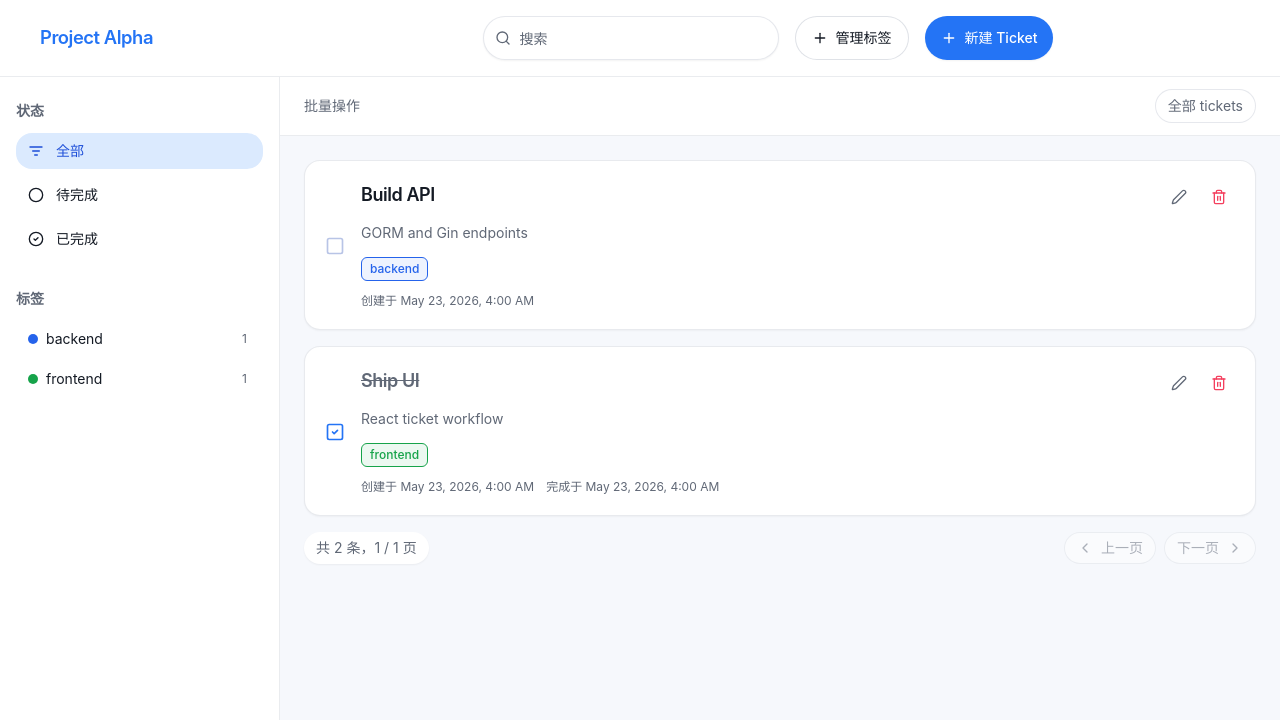
Test: App › 删除 ticket 前需要确认
The width and height of the screenshot is (1280, 720).
Expected: the button "Build API" is shown, [361,181,435,209]
Click the button named "删除 Build API".
click(1219, 197)  # box [1203,181,1235,213]
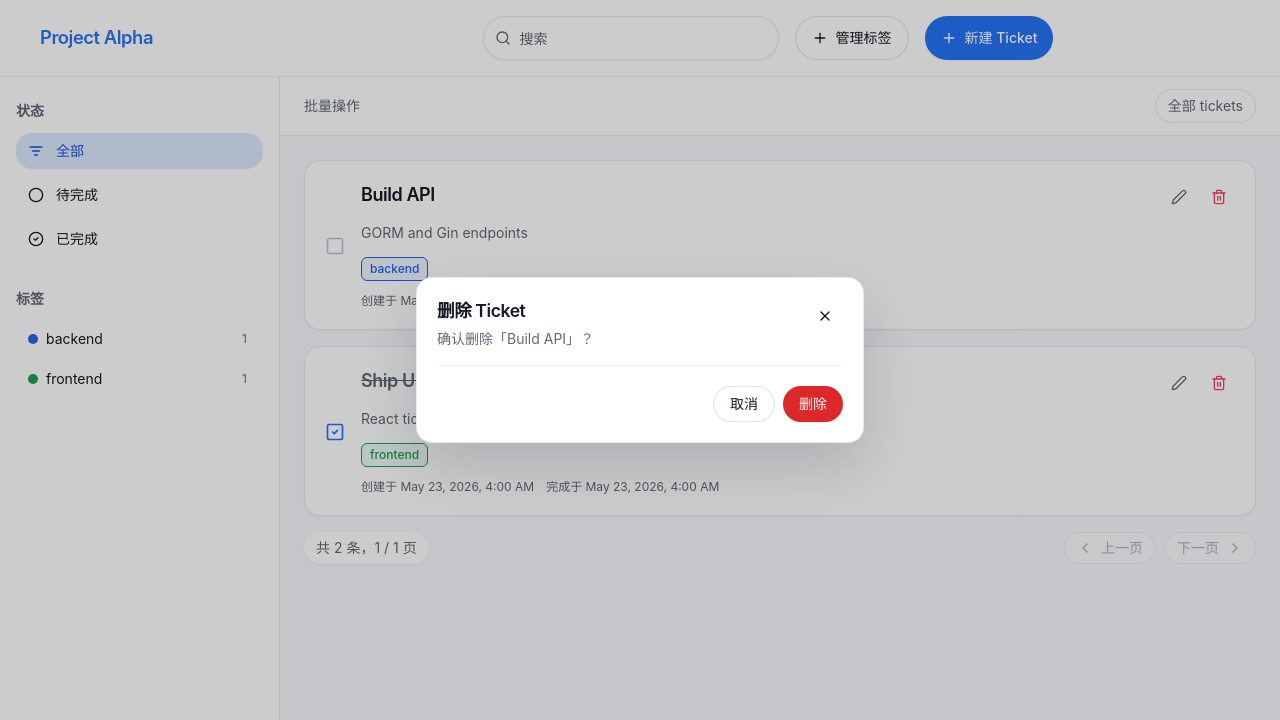
Expected: the text "确认删除「Build API」？" is shown, [437,329,594,349]
Click the button "删除".
click(813, 404)  # box [783,386,843,422]
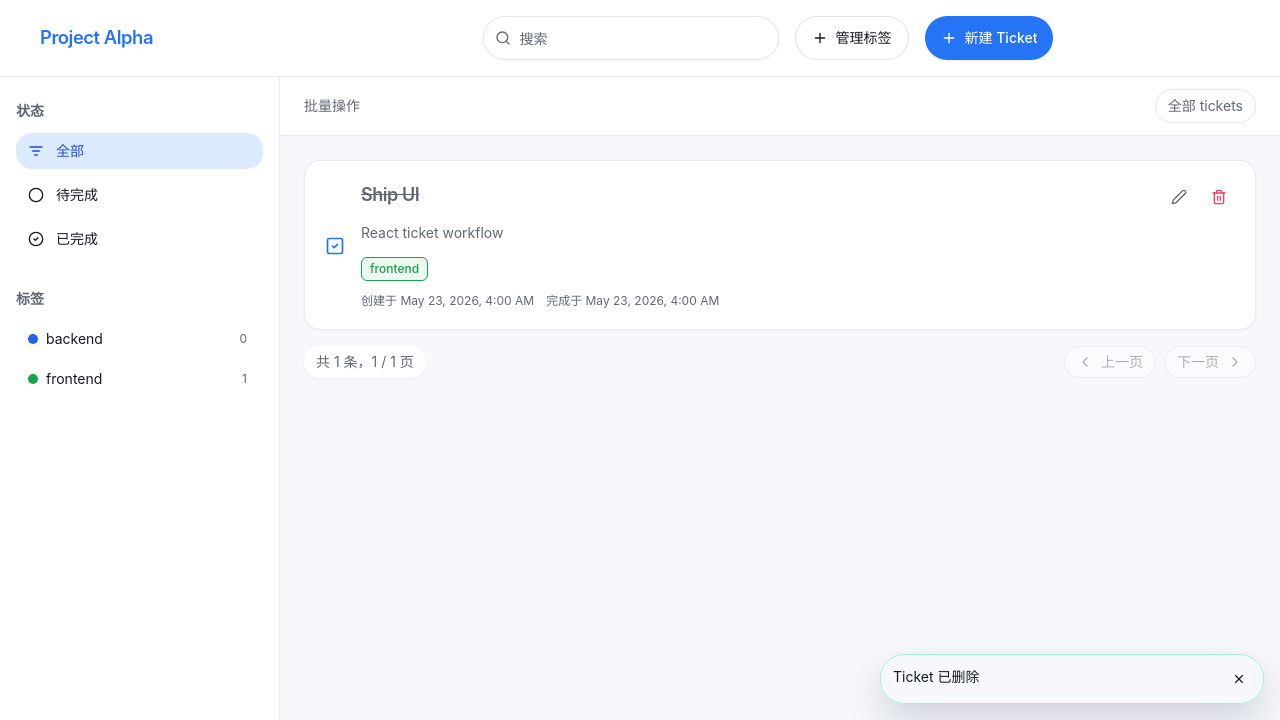
Expected: the button "Build API" is gone
